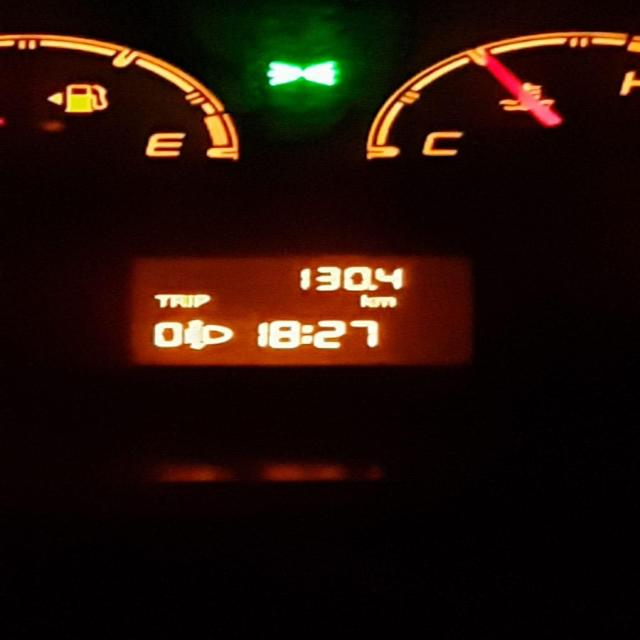odometer: (124, 252, 478, 369)
